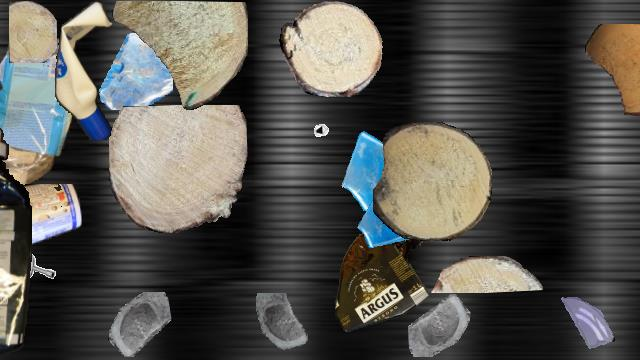glass: (339, 124, 431, 216), (96, 33, 172, 109), (251, 293, 317, 359), (107, 292, 171, 356), (357, 190, 421, 254), (408, 294, 470, 356), (558, 295, 616, 353)
metal: (14, 252, 62, 300), (311, 107, 349, 145)
plastic: (0, 35, 72, 209), (335, 224, 429, 332), (55, 1, 119, 139), (0, 127, 32, 359), (0, 184, 82, 254)
wood: (109, 105, 247, 233), (112, 1, 248, 109), (373, 122, 491, 240), (279, 1, 383, 97), (585, 24, 640, 116), (429, 256, 543, 292), (9, 1, 57, 63)
